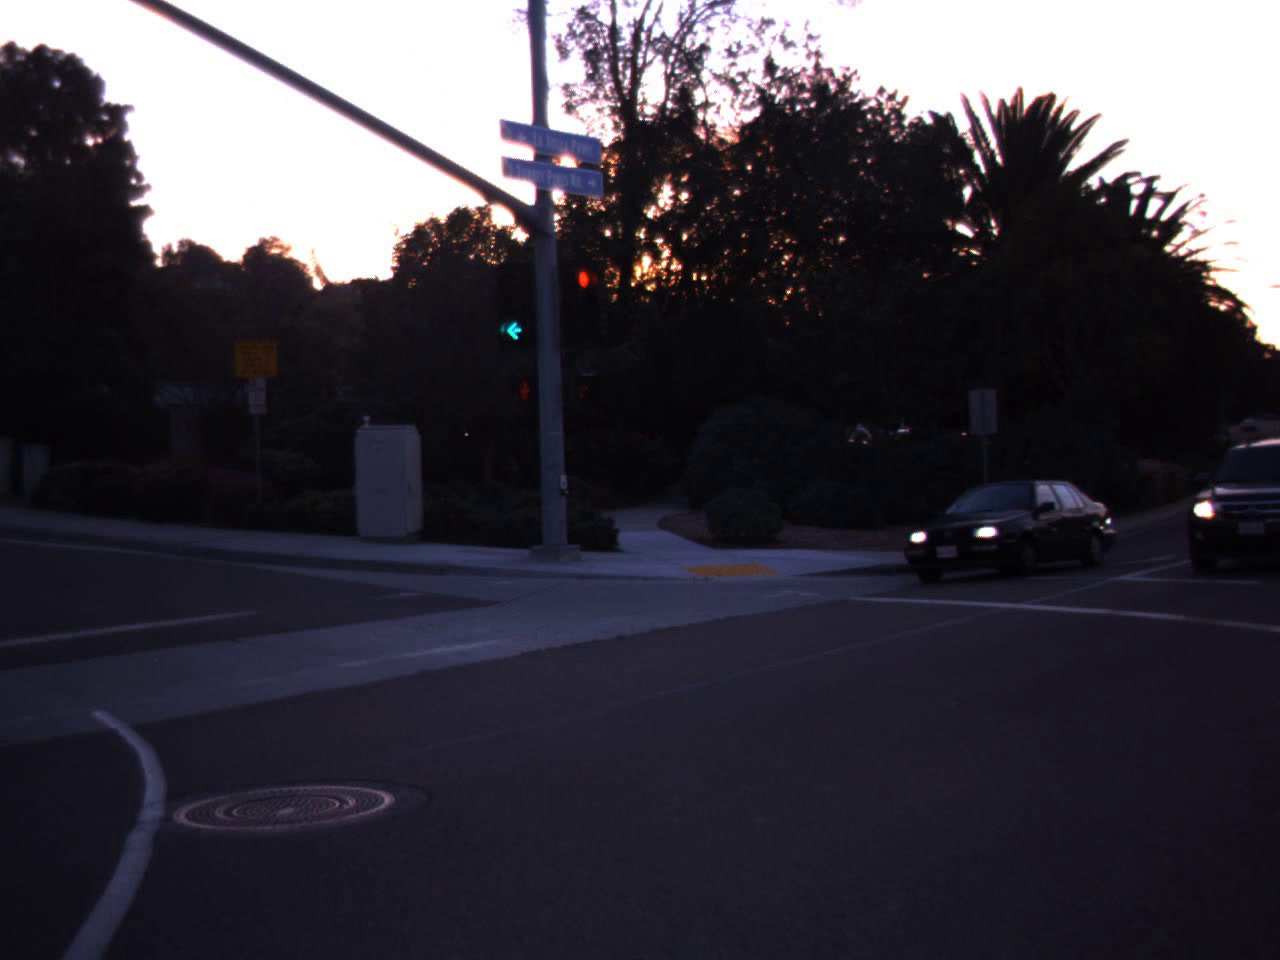go: (485, 250, 542, 350)
